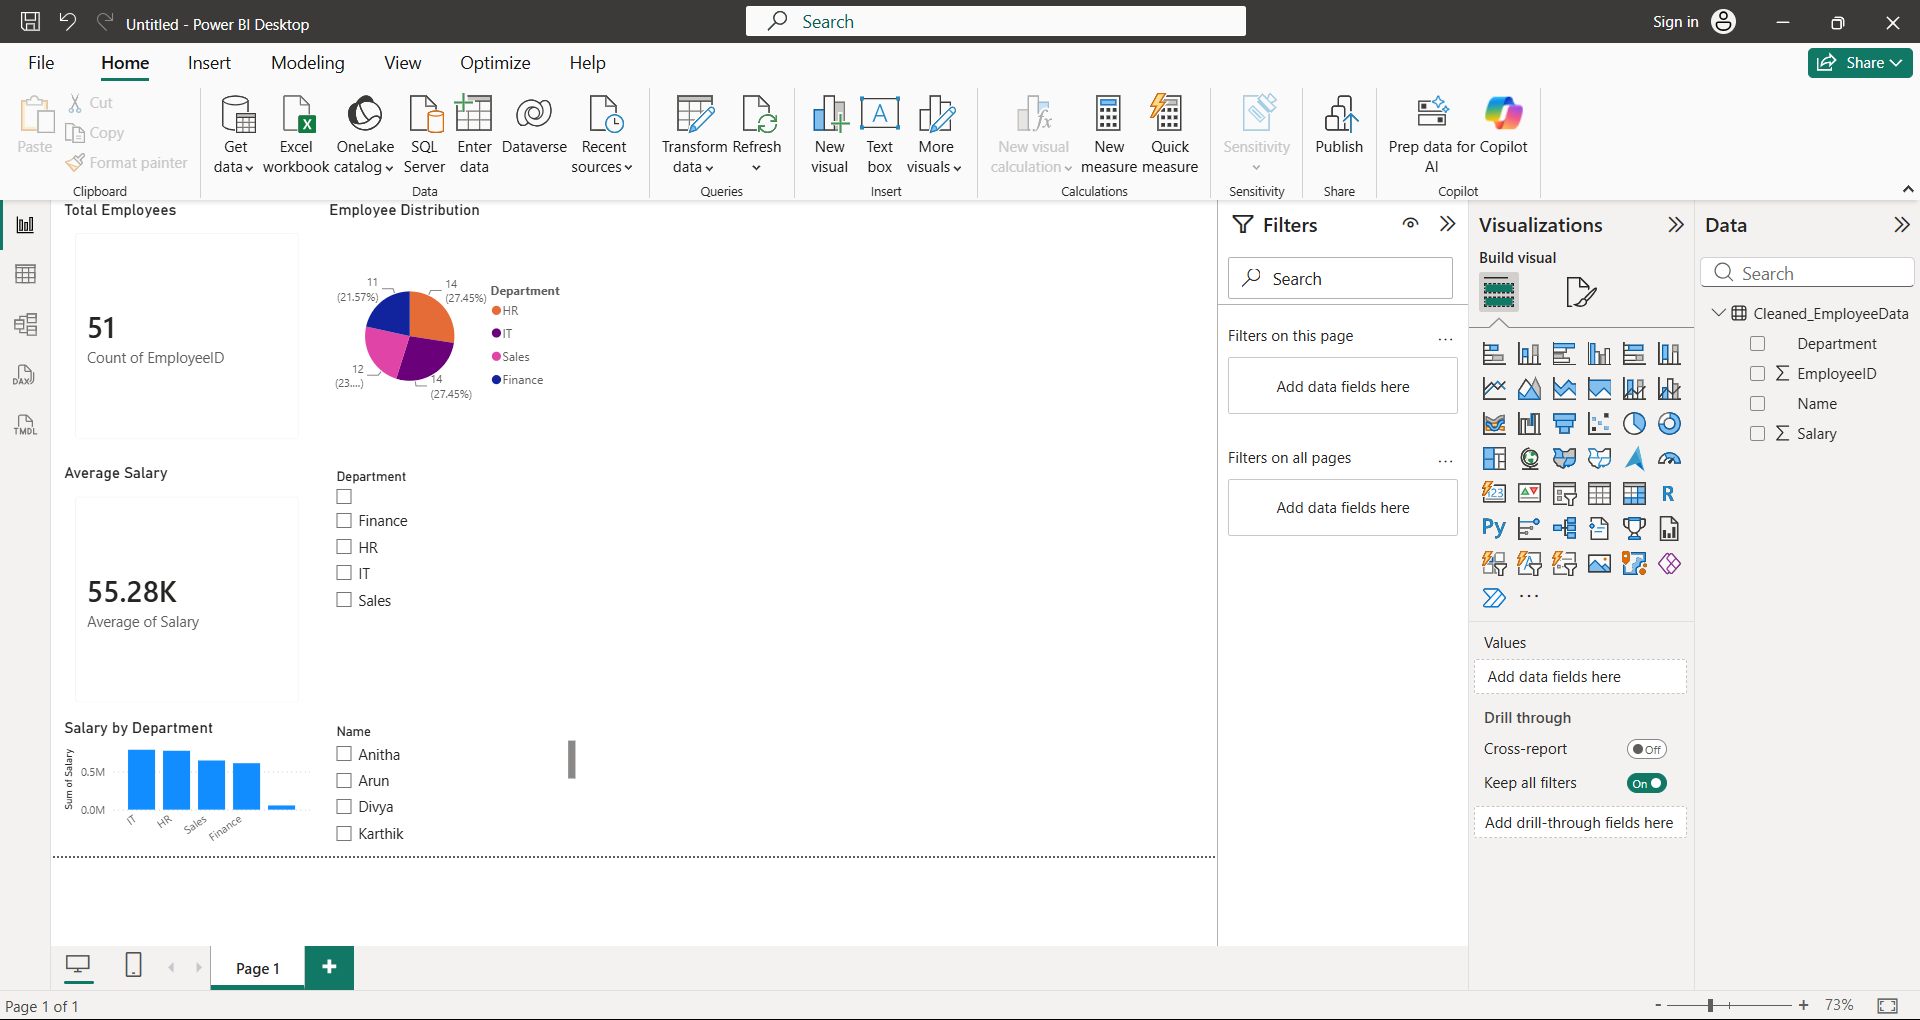

The page's visual inventory and layout, read from the dashboard file:
{"tool":"powerbi","page":{"name":"Page 1","canvas":[1280,720],"ordinal":0},"visuals":[{"type":"cardVisual","title":"Total Employees","fields":{"Data":["CountNonNull(Cleaned_EmployeeData.EmployeeID)"]},"box":[10,0,280,280],"z":0},{"type":"cardVisual","title":"Average Salary","fields":{"Data":["Avg(Cleaned_EmployeeData.Salary)"]},"box":[10,290,280,280],"z":1},{"type":"clusteredColumnChart","title":" Salary by Department","fields":{"Category":["Cleaned_EmployeeData.Department"],"Y":["Sum(Cleaned_EmployeeData.Salary)"]},"box":[10,570,280,150],"z":2},{"type":"pieChart","title":" Employee Distribution","fields":{"Category":["Cleaned_EmployeeData.Department"],"Y":["CountNonNull(Cleaned_EmployeeData.EmployeeID)"]},"box":[300,0,280,280],"z":3},{"type":"slicer","fields":{"Values":["Cleaned_EmployeeData.Department"]},"box":[300,290,280,280],"z":4},{"type":"slicer","fields":{"Values":["Cleaned_EmployeeData.Name"]},"box":[300,570,280,150],"z":5}]}

Visuals, with their boxes on the page's 1280x720 design canvas (x1, y1, x2, y2). These are canvas units, not pixel positions in the 1920x1020 screenshot, which may show the page scaled, cropped or inside an application window:
"Total Employees" cardVisual: 10:0:290:280
"Average Salary" cardVisual: 10:290:290:570
" Salary by Department" clusteredColumnChart: 10:570:290:720
" Employee Distribution" pieChart: 300:0:580:280
slicer - Cleaned_EmployeeData.Department: 300:290:580:570
slicer - Cleaned_EmployeeData.Name: 300:570:580:720
